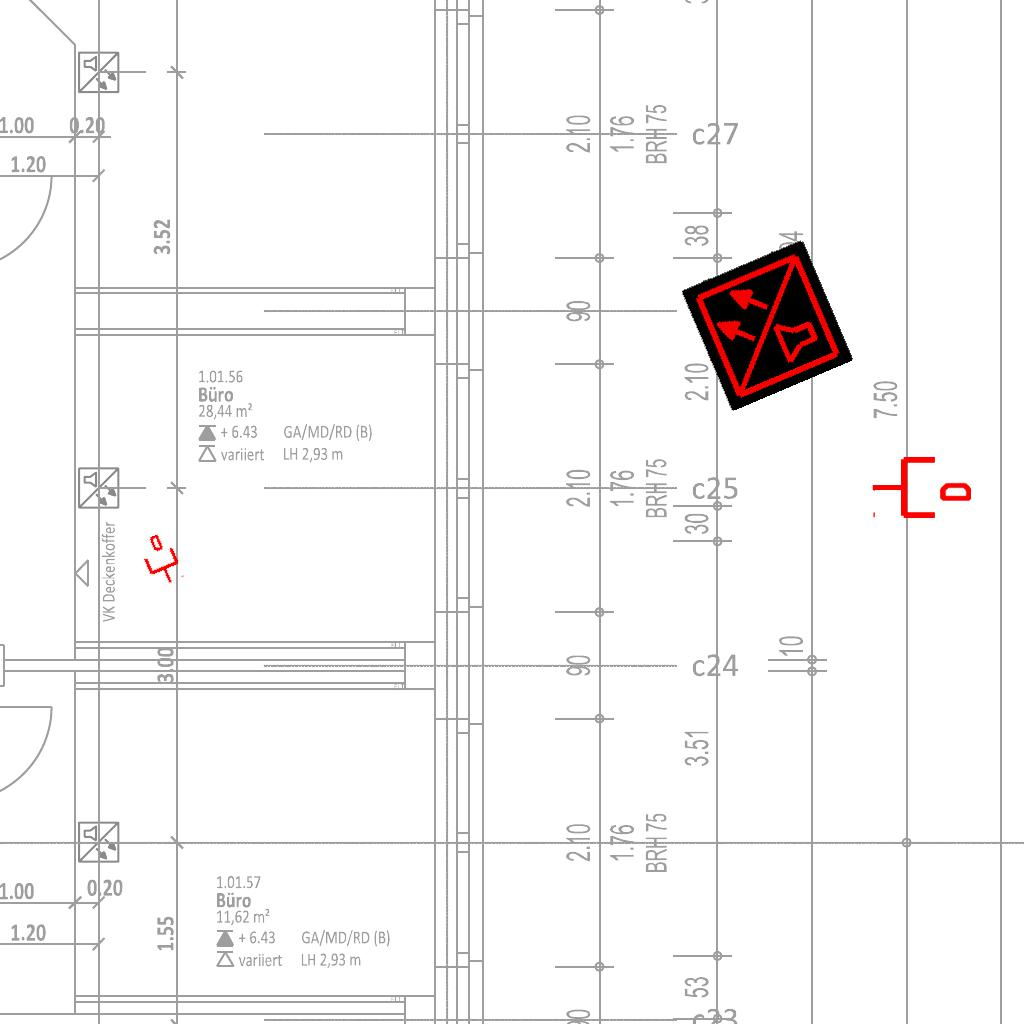Datenanschluss_einfach: (871, 453, 971, 522), (135, 530, 187, 590)
OKW_Multisensormelder_(Kombination_optischer_Rauch-Kahlenmonoxid_Waerme-Melder): (680, 238, 854, 412)
